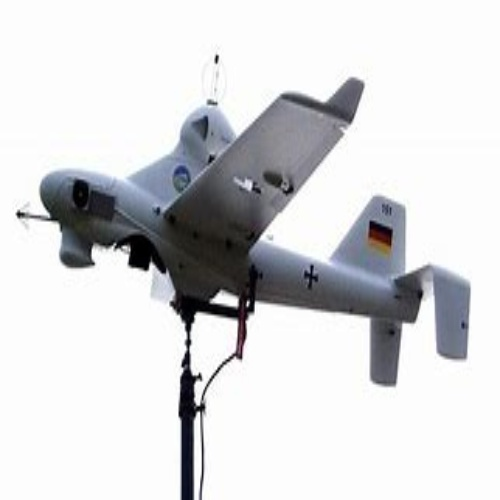uav739: (13, 51, 472, 388)
